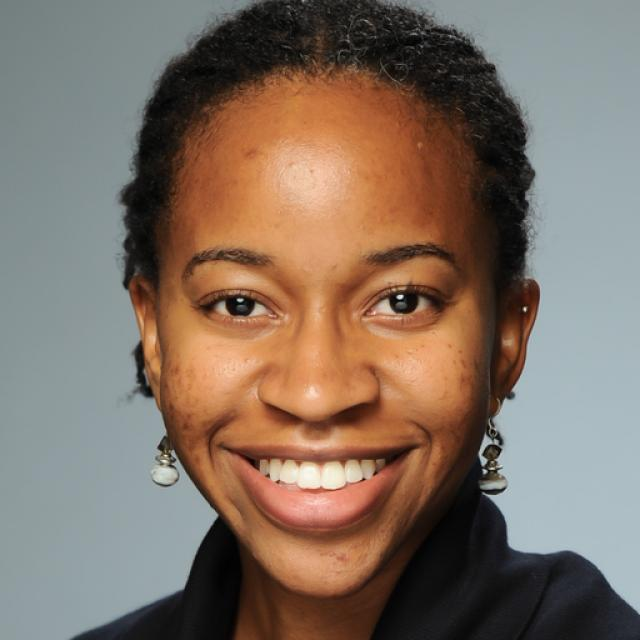Acne: (234, 348, 259, 375), (279, 157, 300, 175)
